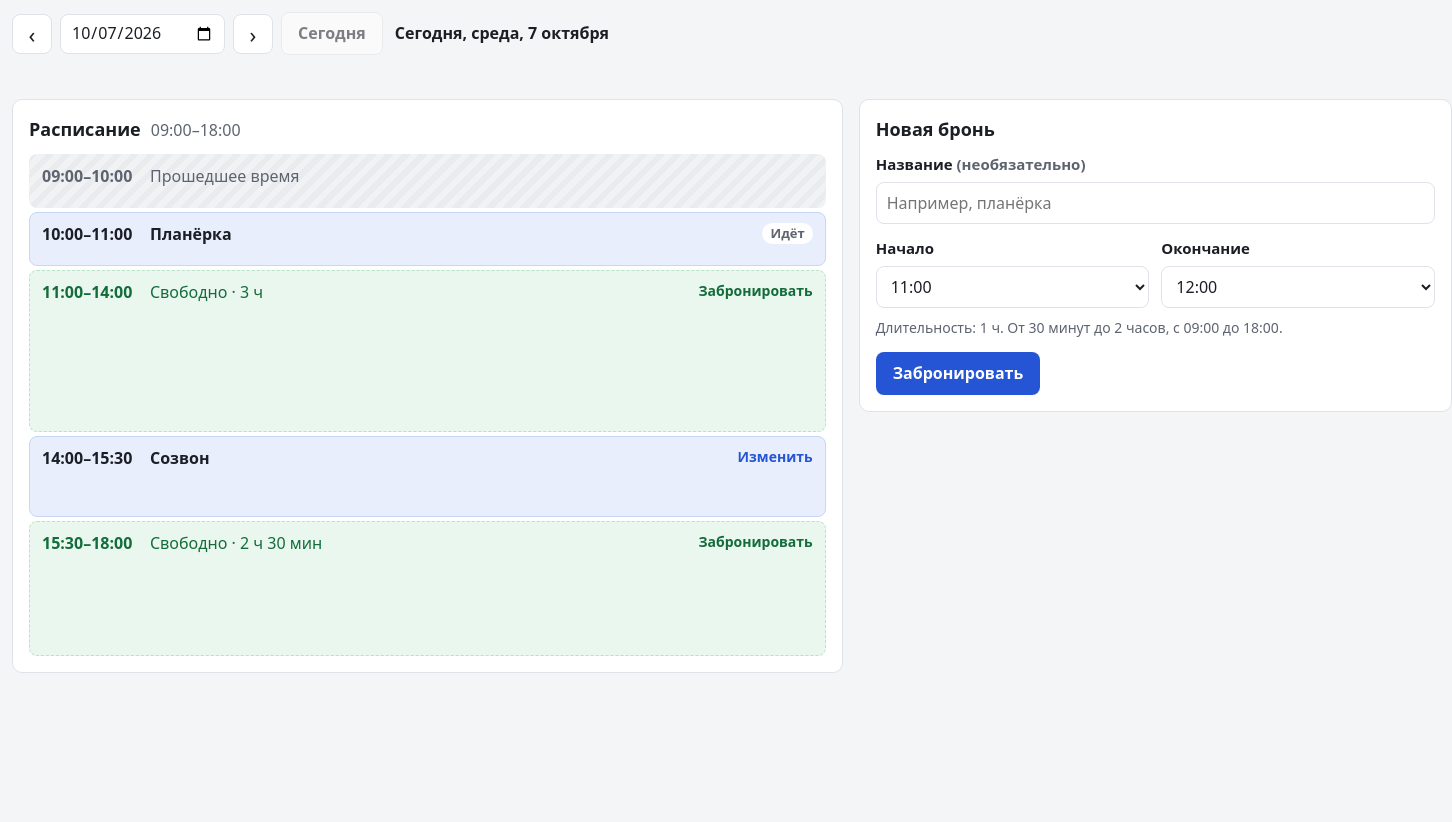
Test case: BookingsPage › books a free slot picked in the schedule
Click the button with aria-label "Свободно 11:00–14:00. Забронировать" at (87, 292), box [29, 270, 826, 432]
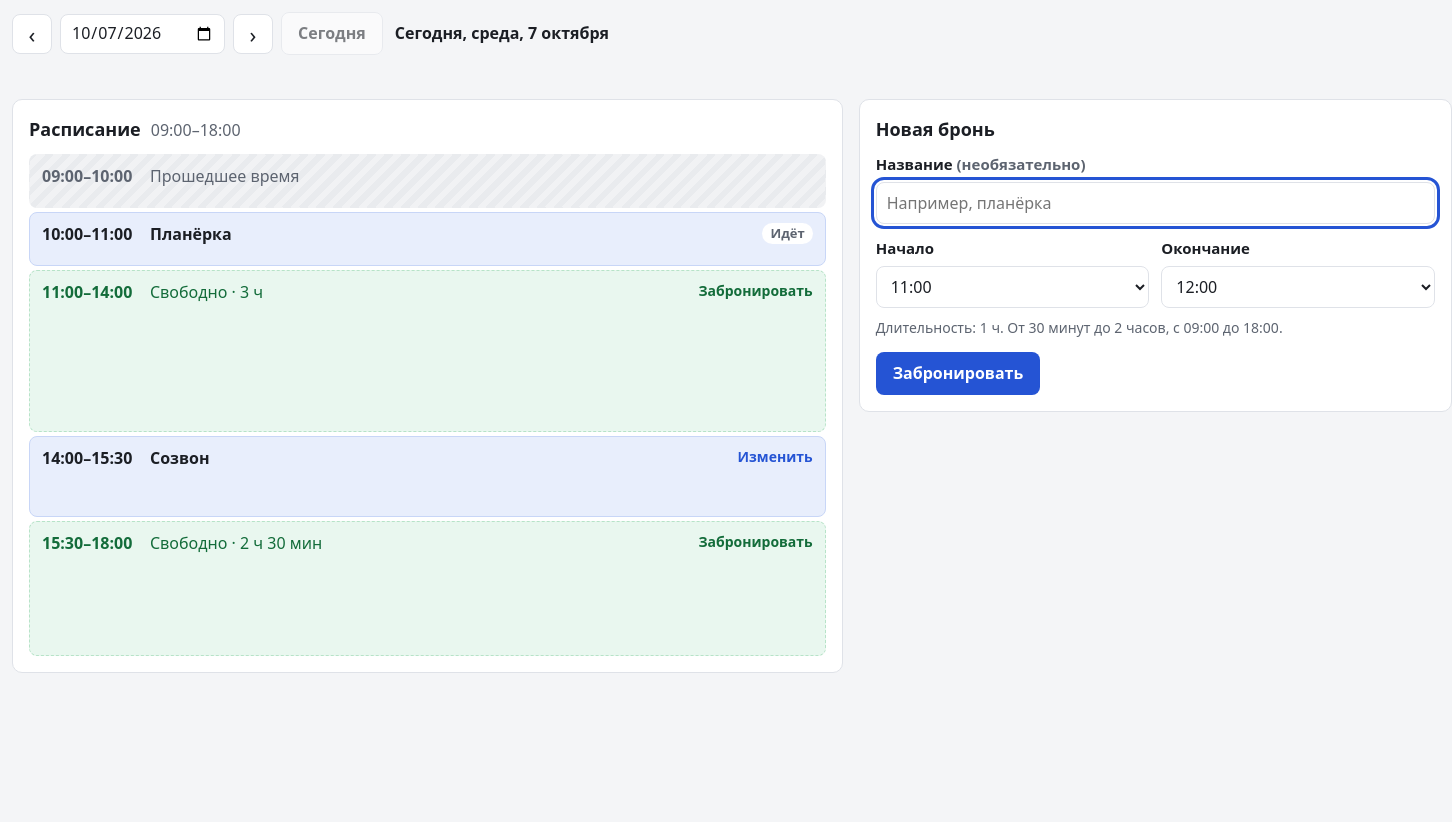
Check: the dropdown labelled "Начало" shows "11:00", box [876, 266, 1149, 308]
Check: the dropdown labelled "Окончание" shows "12:00", box [1161, 266, 1435, 308]
Type "Ретро" into the field labelled "Название (необязательно)" at (1155, 203), box [876, 182, 1435, 224]
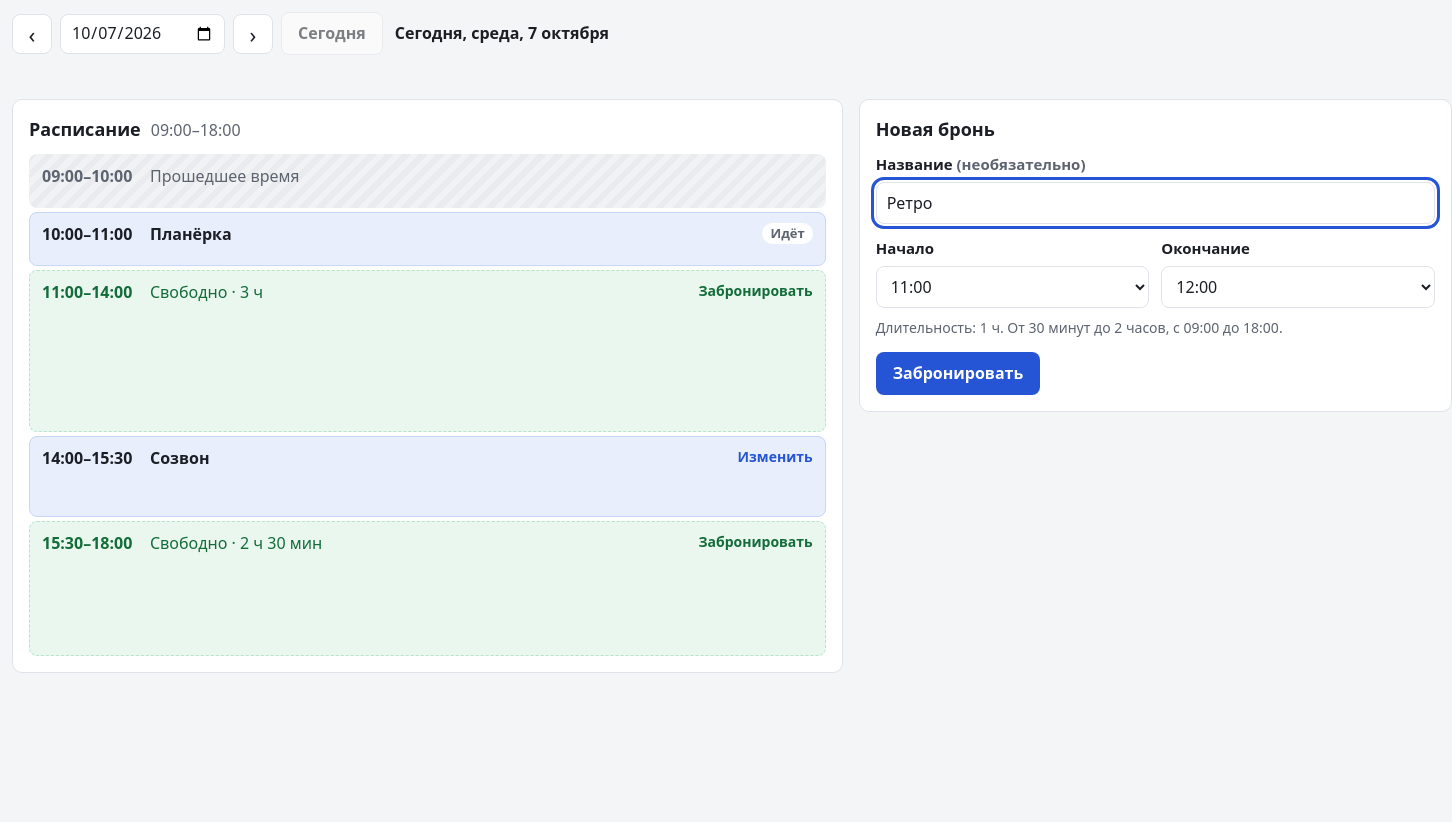
Click the button "Забронировать" at (958, 374), box [876, 352, 1040, 395]
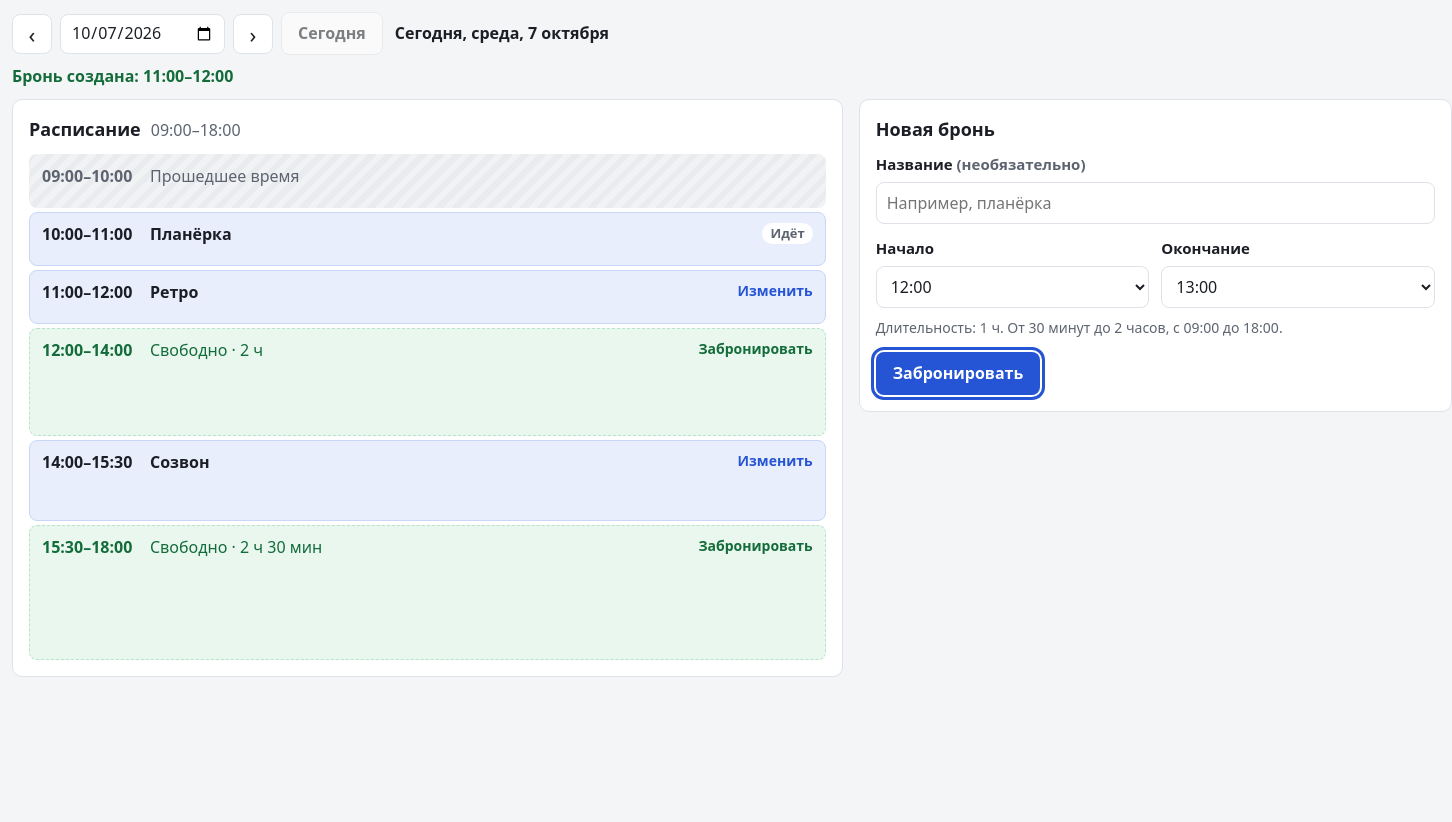
Check: the text "Бронь создана: 11:00–12:00" is shown, box [12, 65, 233, 87]
Check: the text "Ретро" is shown, box [150, 281, 198, 303]
